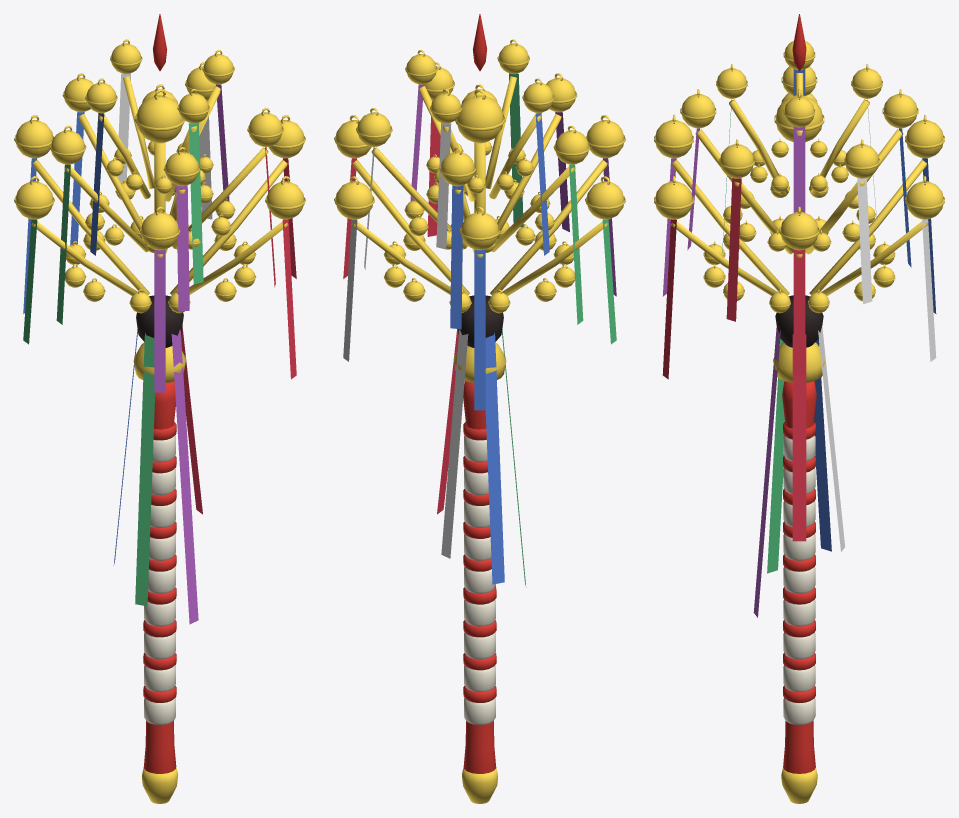
File: ritual_suzu.glb
3 renders of one model, left to right at view 1: azimuth 30°, elevation 25°; view 2: azimuth 150°, elevation 25°; view 3: azimuth 270°, elevation 25°, orthographic.
Visible parts, largest first — view 1: Hub_Ribbon_3, Hub_Ribbon_4, Grip_RedLacquer, Ribbon_0_4, Bell_Crown_Body, Ribbon_1_3, Ribbon_2_2, Branch_0_2, Hub_Black, Branch_0_0, Bell_0_3_main_Body, Bell_0_5_main_Body (+40 smaller); view 2: Hub_Ribbon_2, Hub_Ribbon_1, Grip_RedLacquer, Ribbon_0_2, Ribbon_1_1, Bell_Crown_Body, Branch_0_4, Branch_0_0, Ribbon_2_0, Bell_0_1_main_Body, Bell_0_3_main_Body, Bell_0_2_main_Body (+41 smaller); view 3: Hub_Ribbon_0, Grip_RedLacquer, Hub_Ribbon_3, Hub_Ribbon_2, Ribbon_0_0, Hub_Ribbon_4, Ribbon_1_4, Branch_0_4, Ribbon_1_0, Branch_0_2, Hub_Black, Hub_Ribbon_1 (+31 smaller).
Boxes of the visible parts, <box> form: Hub_Ribbon_3: <box>135,332,155,606</box>; Hub_Ribbon_4: <box>171,329,198,624</box>; Grip_RedLacquer: <box>143,381,176,773</box>; Ribbon_0_4: <box>154,249,165,392</box>; Bell_Crown_Body: <box>136,95,183,143</box>; Ribbon_1_3: <box>176,185,189,311</box>; Ribbon_2_2: <box>188,122,203,284</box>; Branch_0_2: <box>32,159,149,294</box>; Hub_Black: <box>136,295,183,347</box>; Branch_0_0: <box>170,159,287,294</box>; Bell_0_3_main_Body: <box>15,181,53,219</box>; Bell_0_5_main_Body: <box>266,181,304,219</box>; Hub_Ribbon_2: <box>485,332,504,584</box>; Hub_Ribbon_1: <box>441,329,468,558</box>; Grip_RedLacquer: <box>463,381,496,773</box>; Ribbon_0_2: <box>474,249,485,410</box>; Ribbon_1_1: <box>450,185,463,329</box>; Bell_Crown_Body: <box>456,95,503,143</box>; Branch_0_4: <box>490,159,607,294</box>; Branch_0_0: <box>352,159,469,294</box>; Ribbon_2_0: <box>436,122,451,249</box>; Bell_0_1_main_Body: <box>335,181,373,219</box>; Bell_0_3_main_Body: <box>586,181,624,219</box>; Bell_0_2_main_Body: <box>460,211,498,250</box>; Hub_Ribbon_0: <box>792,334,806,541</box>; Grip_RedLacquer: <box>782,381,816,773</box>; Hub_Ribbon_3: <box>767,338,784,573</box>; Hub_Ribbon_2: <box>814,338,831,551</box>; Ribbon_0_0: <box>793,249,805,375</box>; Hub_Ribbon_4: <box>753,326,780,617</box>; Ribbon_1_4: <box>726,178,741,321</box>; Branch_0_4: <box>672,160,789,294</box>; Ribbon_1_0: <box>857,178,872,304</box>; Branch_0_2: <box>809,160,926,294</box>; Hub_Black: <box>775,295,823,347</box>; Hub_Ribbon_1: <box>818,326,844,551</box>.
Size of the model in its own units: 0.7419 by 1.95 by 0.6525.
